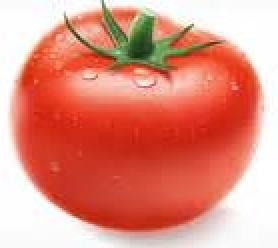tomato: (15, 10, 263, 233)
